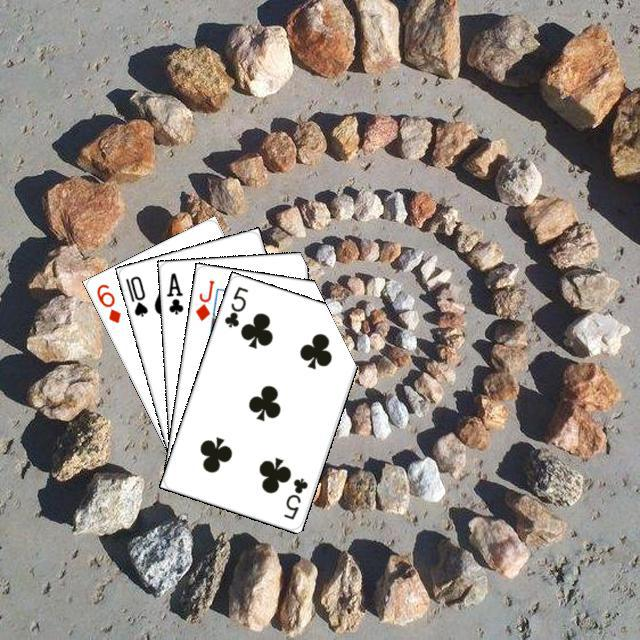10s: (120, 271, 150, 318)
5c: (219, 281, 250, 329), (279, 473, 310, 521)
6d: (91, 279, 123, 325)
Ac: (162, 268, 185, 316)
Jd: (190, 275, 216, 323)
